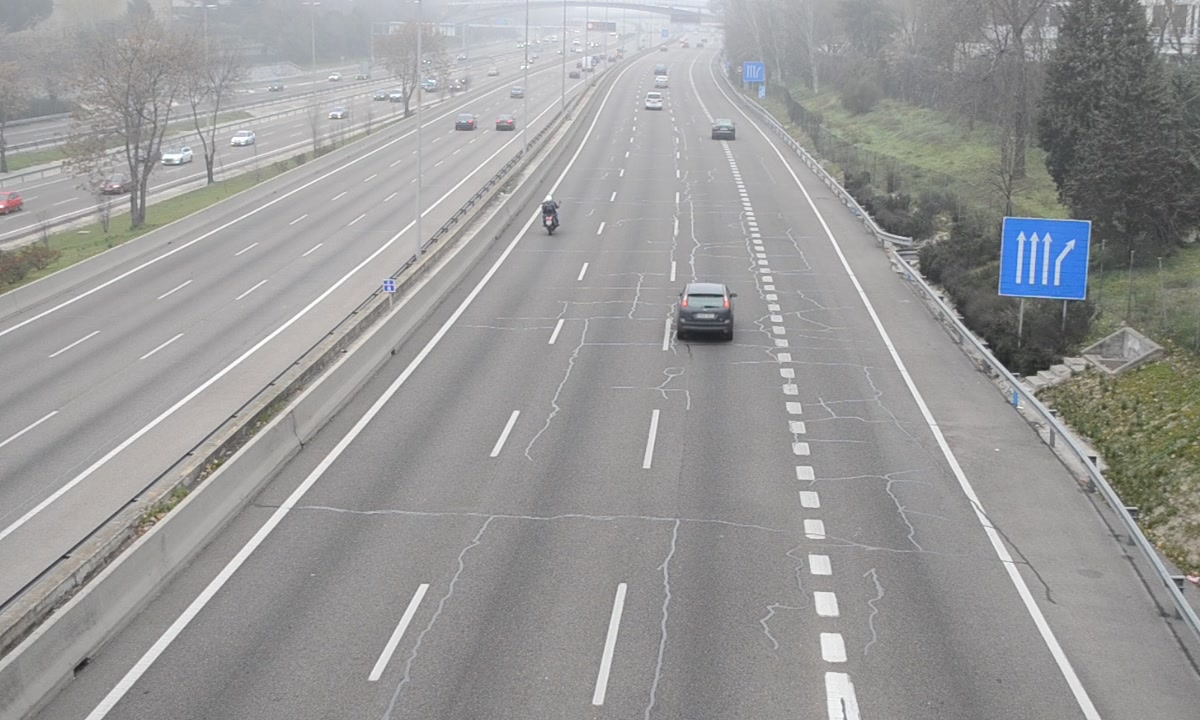car: (678, 283, 734, 343), (711, 120, 734, 141), (646, 92, 663, 111)
motorcycle: (539, 197, 561, 240)
